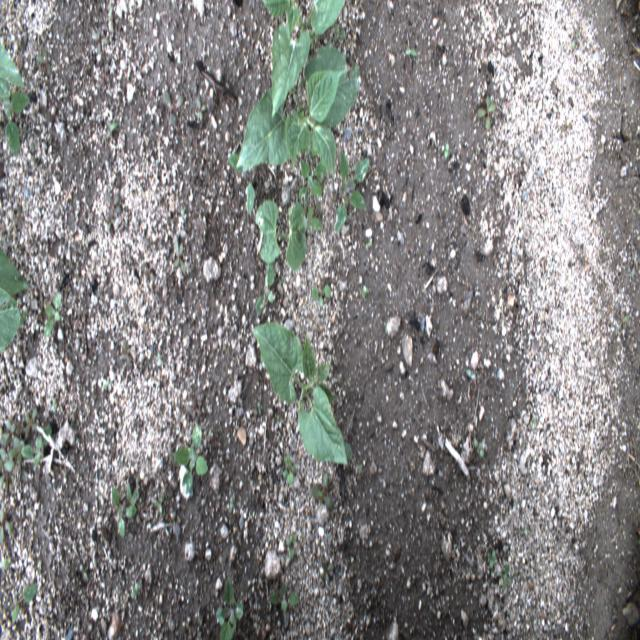crop: (236, 43, 361, 175), (253, 319, 353, 467), (262, 0, 346, 119), (254, 198, 307, 274), (0, 42, 31, 157), (0, 237, 29, 355)
weed: (335, 148, 369, 234), (172, 421, 209, 494), (215, 576, 245, 640), (298, 158, 329, 205), (21, 427, 53, 468), (268, 580, 300, 615), (11, 584, 38, 624), (256, 260, 275, 314), (162, 90, 185, 132), (111, 486, 126, 540), (44, 294, 61, 339), (311, 474, 333, 506), (0, 437, 19, 472), (172, 233, 187, 276), (478, 95, 496, 128), (124, 483, 140, 520), (89, 28, 110, 56), (0, 508, 13, 549), (36, 47, 54, 76), (245, 168, 256, 215), (282, 452, 296, 488), (311, 282, 332, 306), (306, 203, 323, 232), (0, 419, 17, 445), (285, 532, 297, 561), (195, 95, 208, 121), (25, 408, 37, 433), (503, 562, 511, 592), (227, 152, 239, 171), (486, 548, 496, 570), (441, 141, 451, 161), (154, 494, 163, 516), (474, 438, 483, 459), (131, 581, 141, 599), (404, 46, 418, 58), (2, 554, 11, 570), (465, 368, 476, 381), (571, 29, 578, 49), (109, 120, 118, 134), (0, 474, 8, 488), (51, 396, 57, 414), (101, 378, 110, 390), (361, 288, 369, 300), (229, 494, 234, 512), (257, 401, 262, 416), (180, 207, 185, 218), (358, 465, 363, 475), (364, 241, 371, 248), (383, 322, 387, 334)
